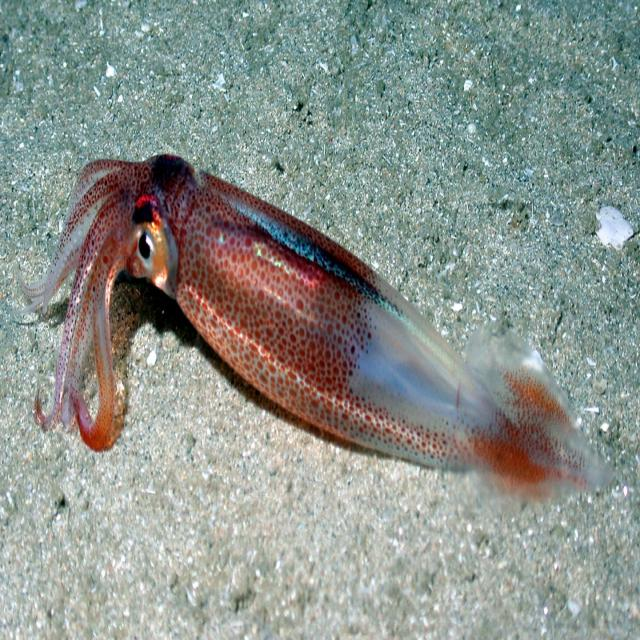SQUID: (16, 127, 621, 564)
